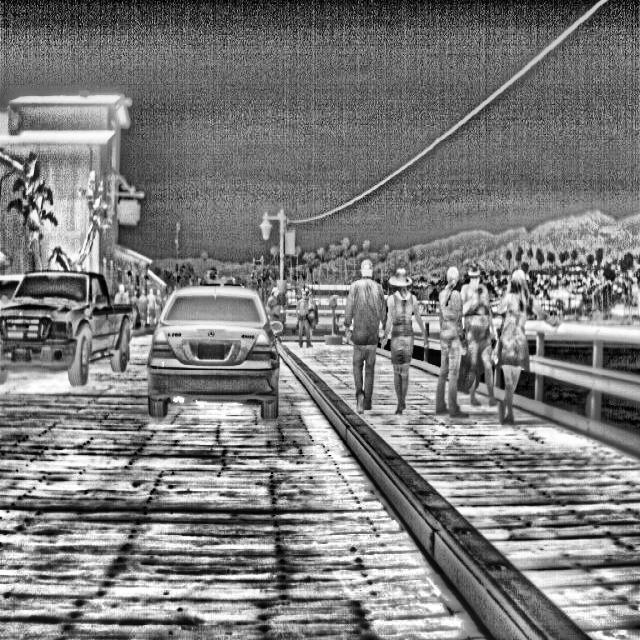car: (148, 284, 286, 430), (10, 260, 141, 392)
light: (254, 207, 302, 257)
person and bycle: (338, 258, 386, 409), (384, 270, 432, 408), (461, 258, 497, 442), (504, 268, 537, 430), (441, 266, 474, 426), (297, 286, 325, 353), (264, 287, 294, 339), (132, 283, 160, 329), (115, 281, 148, 313)
